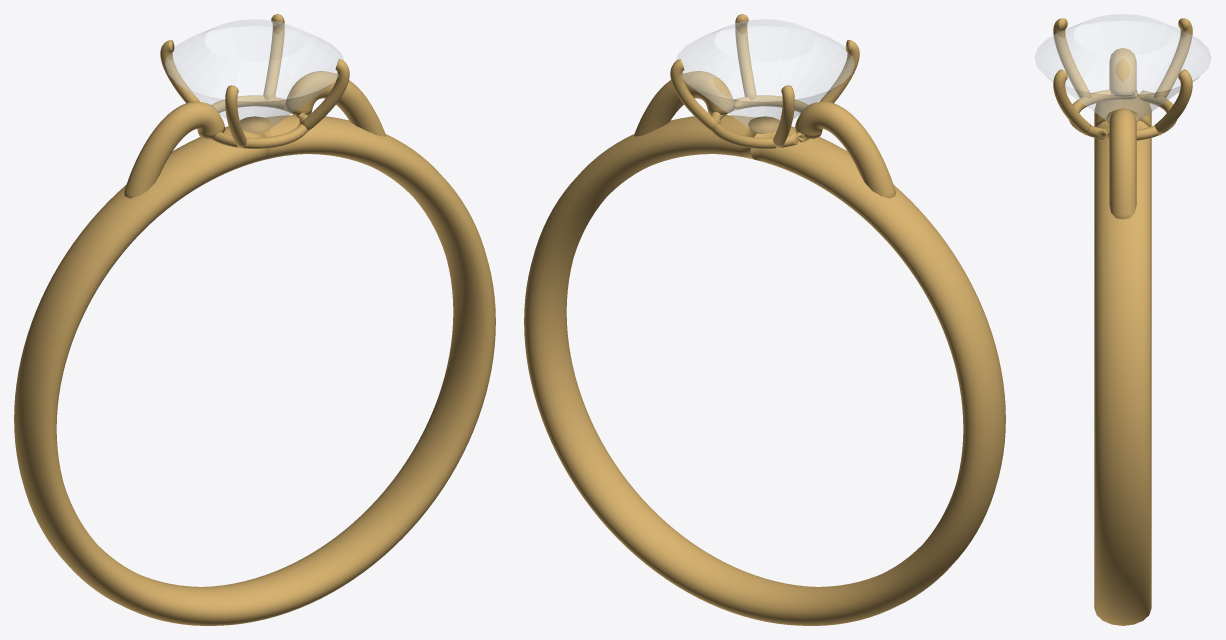
File: settings-cathedral.glb
3 views of the same model, side by side, from view 1: azimuth 30°, elevation 25°; view 2: azimuth 150°, elevation 25°; view 3: azimuth 270°, elevation 25° (orthographic).
Visible parts, largest first — view 1: Band, Gem, Cathedral shoulder, Cathedral shoulder.001, Lower gallery, Prong, Prong.003, Prong.001, Prong.002; view 2: Band, Gem, Cathedral shoulder, Cathedral shoulder.001, Lower gallery, Prong.003, Prong, Prong.002, Prong.001; view 3: Band, Gem, Cathedral shoulder.001, Lower gallery, Cathedral shoulder, Prong.001, Prong.002, Prong, Prong.003.
Part boxes in pixels (left/top/right/bottom): Band: left=14, top=115, right=495, bottom=625; Gem: left=165, top=19, right=343, bottom=132; Cathedral shoulder: left=123, top=101, right=225, bottom=198; Cathedral shoulder.001: left=284, top=71, right=385, bottom=136; Lower gallery: left=211, top=95, right=308, bottom=148; Prong: left=263, top=14, right=284, bottom=99; Prong.003: left=299, top=59, right=349, bottom=131; Prong.001: left=160, top=40, right=200, bottom=103; Prong.002: left=225, top=85, right=246, bottom=148; Band: left=524, top=115, right=1005, bottom=625; Gem: left=676, top=19, right=854, bottom=132; Cathedral shoulder: left=794, top=101, right=896, bottom=198; Cathedral shoulder.001: left=634, top=71, right=735, bottom=136; Lower gallery: left=711, top=95, right=808, bottom=148; Prong.003: left=735, top=14, right=756, bottom=99; Prong: left=670, top=59, right=720, bottom=131; Prong.002: left=819, top=40, right=859, bottom=103; Prong.001: left=773, top=85, right=794, bottom=148; Band: left=1094, top=97, right=1151, bottom=625; Gem: left=1035, top=14, right=1210, bottom=121; Cathedral shoulder.001: left=1109, top=108, right=1136, bottom=219; Lower gallery: left=1069, top=89, right=1176, bottom=140; Cathedral shoulder: left=1109, top=48, right=1136, bottom=96; Prong.001: left=1154, top=18, right=1192, bottom=98; Prong.002: left=1053, top=18, right=1091, bottom=98; Prong: left=1154, top=69, right=1192, bottom=135; Prong.003: left=1053, top=69, right=1091, bottom=135.
Bounding box in the file's own units: 19.6 × 22.94 × 6.5.
